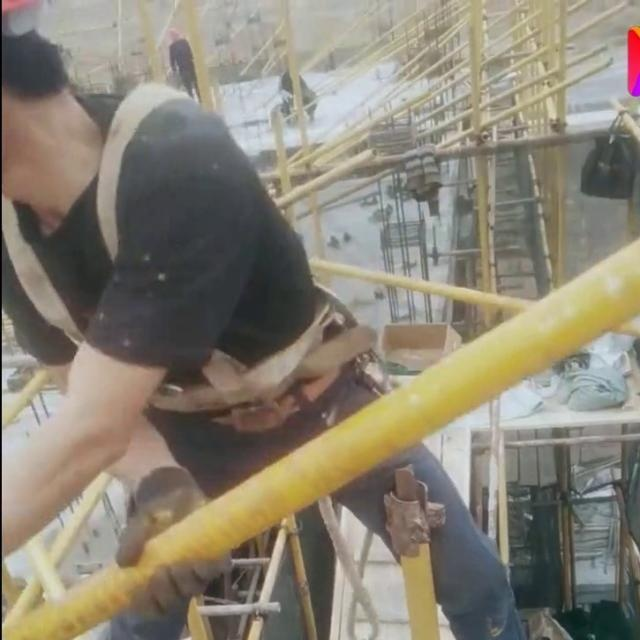Arnes_seguridad: (0, 75, 342, 420)
